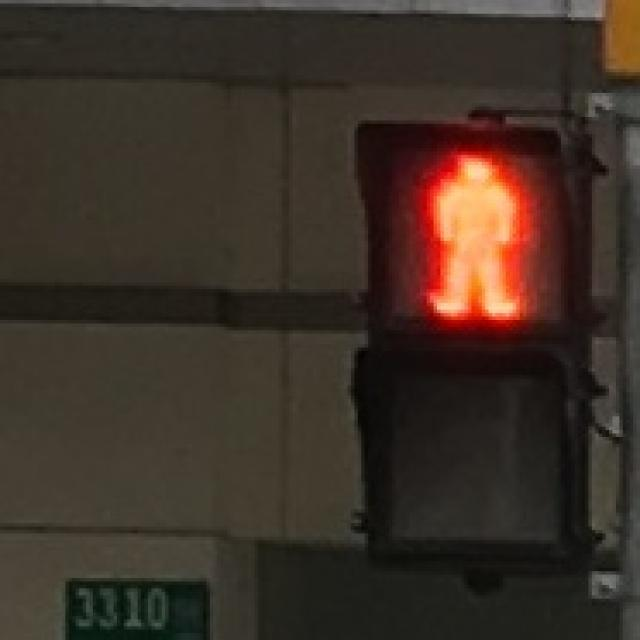red-crossing: (392, 149, 540, 325)
